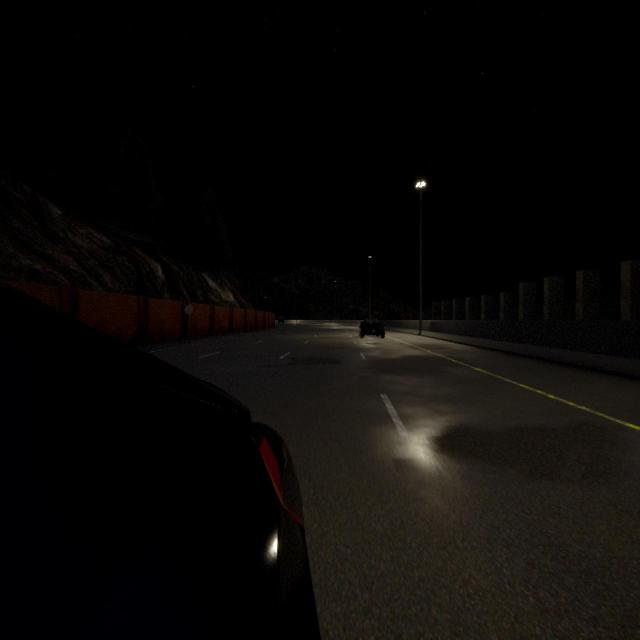Traffic_Signs: (184, 304, 193, 314)
Vehicle: (0, 287, 319, 640), (359, 316, 385, 339), (278, 316, 284, 325)
